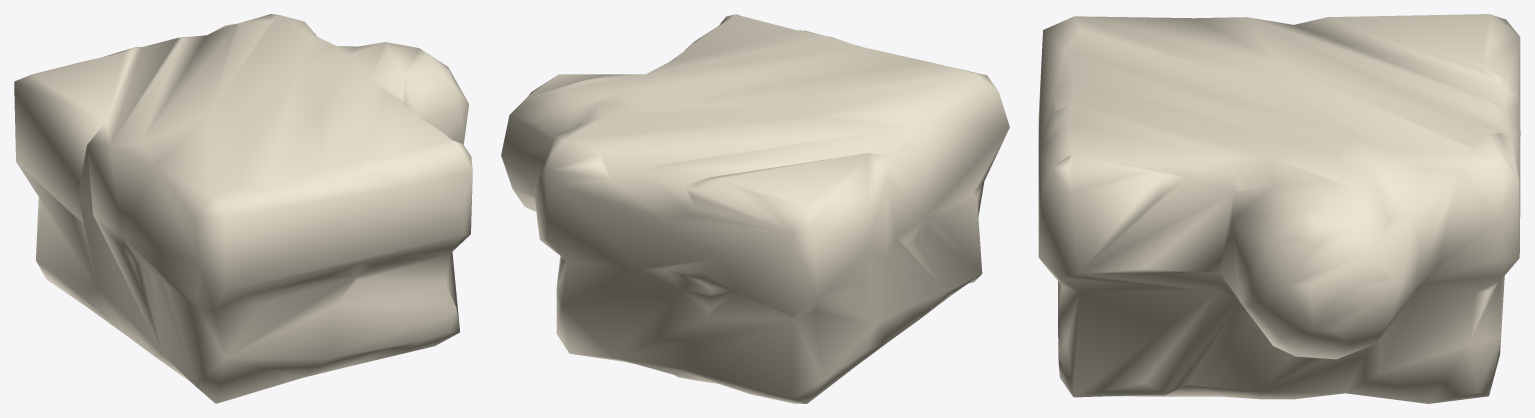
The model's file is carpus_r.glb.
The picture shows the model from 3 angles, left to right: view 1: azimuth 30°, elevation 25°; view 2: azimuth 150°, elevation 25°; view 3: azimuth 270°, elevation 25°; orthographic projection. The views are drawn at different scales.
Parts seen in each view (by area): view 1: geometry_0; view 2: geometry_0; view 3: geometry_0.
Part boxes in pixels (box(x1,y1,x2,y2)): geometry_0: box(14, 14, 472, 403); geometry_0: box(501, 14, 1009, 403); geometry_0: box(1038, 14, 1520, 403).
Size of the model in its own units: 0.1361 by 0.0736 by 0.1259.
